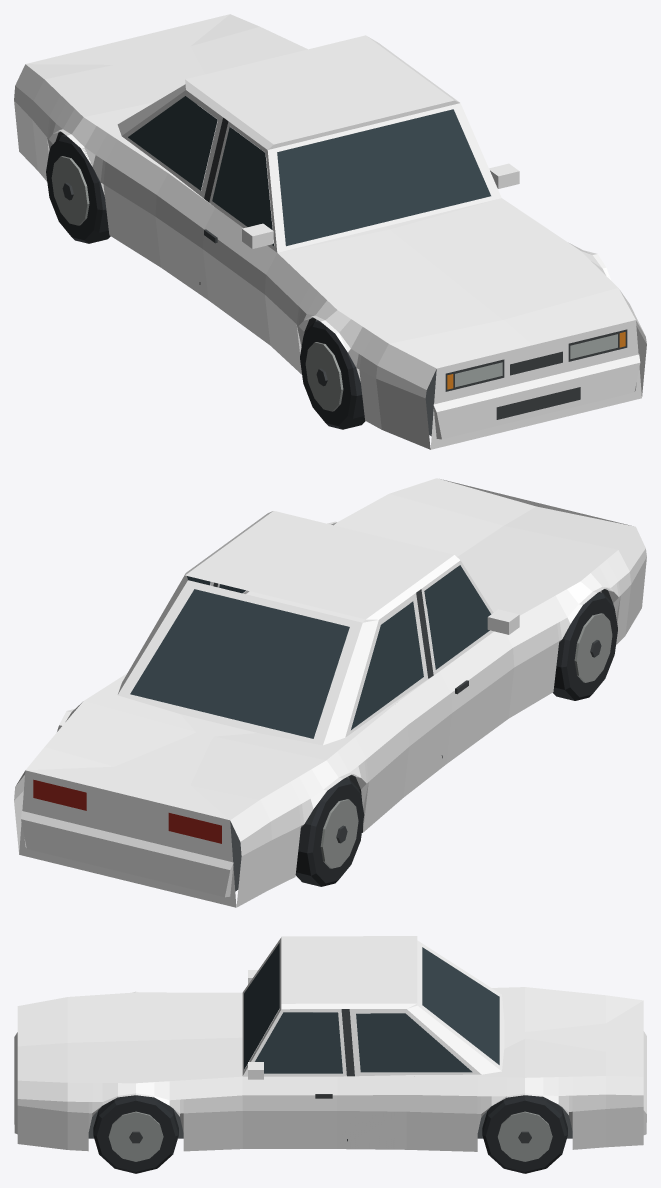
Rendered from ostwerk_elster.glb.
The picture shows the model from 3 angles, top to bottom: view 1: azimuth 30°, elevation 25°; view 2: azimuth 150°, elevation 25°; view 3: azimuth 270°, elevation 25°; orthographic projection. The views are drawn at different scales.
Visible parts, largest first — view 1: ostwerk_elster; view 2: ostwerk_elster; view 3: ostwerk_elster.
Boxes of the visible parts, x1,y1,x2,y2 form: ostwerk_elster: (14,14,646,449); ostwerk_elster: (14,478,646,907); ostwerk_elster: (14,936,646,1173).
Bounding box in the file's own units: 1.82 × 1.27 × 4.7.
8 materials, 1 textured.
